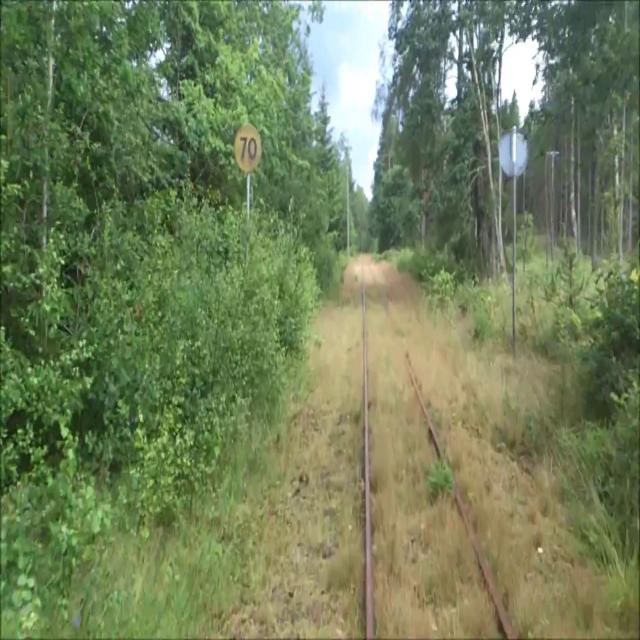rail-track: (363, 255, 509, 639)
